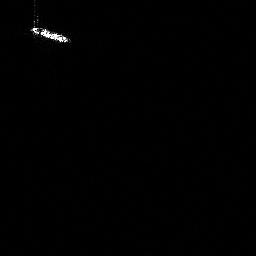ship: (27, 22, 73, 46)
